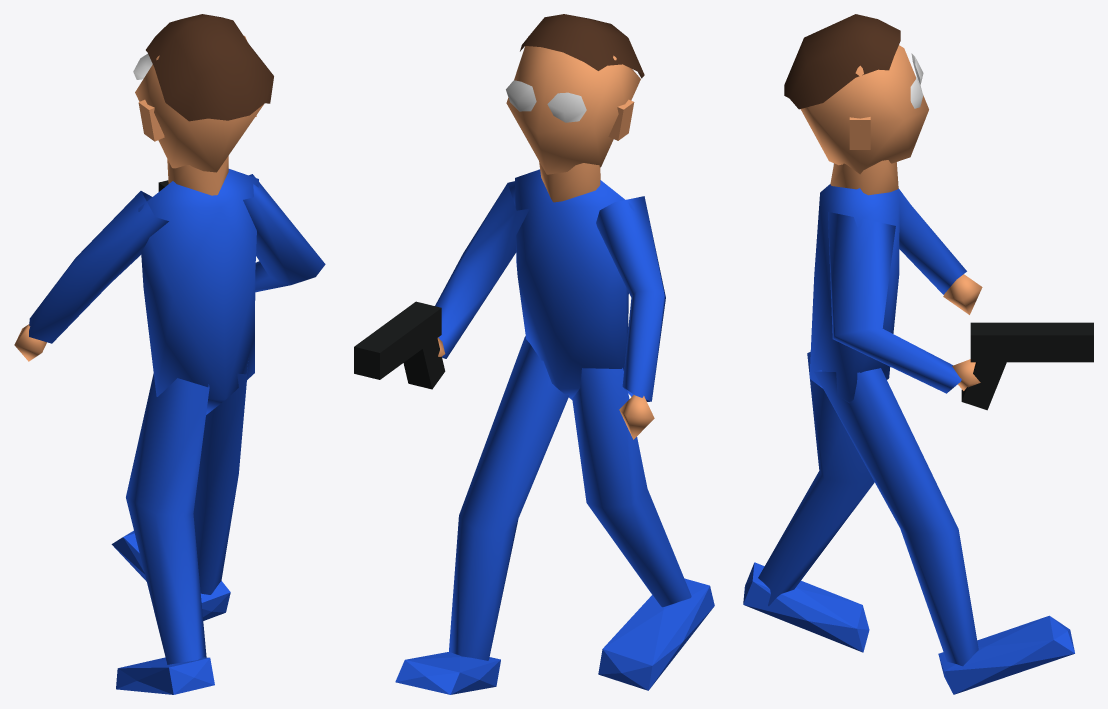
The model's file is boy_right.obj.
3 renders of one model, left to right at view 1: azimuth 30°, elevation 25°; view 2: azimuth 150°, elevation 25°; view 3: azimuth 270°, elevation 25°, orthographic.
Visible parts, largest first — view 1: Sphere_5, Sphere_17_1, Spline_Mesh_1, Sphere_6_1, Sphere_17, Sphere_4, Sphere_6, Cube_3_1, Cube_3, Sphere_14, Sphere_12_1, Cube_1; view 2: Sphere_5, Sphere_17, Sphere_17_1, Sphere_4, Sphere_6_1, Cube_3_1, Sphere_6, Spline_Mesh_1, Cube_12, Cube_3, Sphere_14, Cube_13 (+4 smaller); view 3: Sphere_17, Sphere_6, Sphere_17_1, Sphere_4, Sphere_5, Spline_Mesh_1, Cube_3, Cube_12, Cube_3_1, Sphere_6_1, Sphere_14, Cube_13 (+2 smaller).
Boxes of the visible parts, x1=… form: Sphere_5: x1=138, y1=169, x2=258, y2=414; Sphere_17_1: x1=126, y1=374, x2=209, y2=664; Spline_Mesh_1: x1=146, y1=14, x2=273, y2=121; Sphere_6_1: x1=29, y1=191, x2=168, y2=343; Sphere_17: x1=193, y1=361, x2=248, y2=594; Sphere_4: x1=135, y1=36, x2=263, y2=172; Sphere_6: x1=243, y1=174, x2=325, y2=292; Cube_3_1: x1=116, y1=657, x2=214, y2=694; Cube_3: x1=111, y1=530, x2=230, y2=620; Sphere_14: x1=167, y1=156, x2=228, y2=195; Sphere_12_1: x1=14, y1=324, x2=46, y2=361; Cube_1: x1=138, y1=99, x2=164, y2=141; Sphere_5: x1=515, y1=169, x2=634, y2=399; Sphere_17: x1=449, y1=336, x2=568, y2=660; Sphere_17_1: x1=572, y1=368, x2=691, y2=607; Sphere_4: x1=506, y1=36, x2=640, y2=174; Sphere_6_1: x1=596, y1=196, x2=665, y2=401; Cube_3_1: x1=598, y1=578, x2=714, y2=690; Sphere_6: x1=435, y1=180, x2=529, y2=358; Spline_Mesh_1: x1=520, y1=14, x2=644, y2=78; Cube_12: x1=354, y1=301, x2=441, y2=379; Cube_3: x1=395, y1=652, x2=500, y2=694; Sphere_14: x1=539, y1=161, x2=600, y2=202; Cube_13: x1=403, y1=338, x2=445, y2=389; Sphere_17: x1=814, y1=368, x2=978, y2=666; Sphere_6: x1=828, y1=212, x2=961, y2=393; Sphere_17_1: x1=758, y1=352, x2=874, y2=606; Sphere_4: x1=800, y1=45, x2=928, y2=174; Sphere_5: x1=809, y1=184, x2=899, y2=403; Spline_Mesh_1: x1=784, y1=14, x2=900, y2=109; Cube_3: x1=938, y1=615, x2=1074, y2=694; Cube_12: x1=970, y1=322, x2=1093, y2=362; Cube_3_1: x1=743, y1=562, x2=869, y2=652; Sphere_6_1: x1=897, y1=188, x2=966, y2=294; Sphere_14: x1=830, y1=160, x2=898, y2=195; Cube_13: x1=961, y1=362, x2=1006, y2=410.
Bounding box in the file's own units: 1.33 × 3.37 × 1.65.
